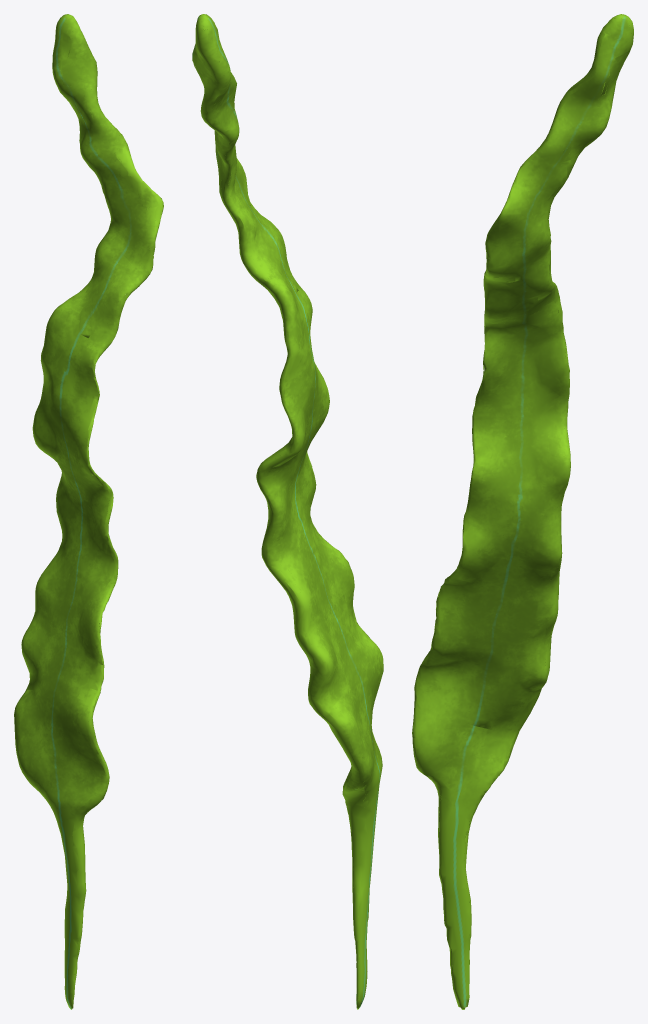
The model's file is alga.glb.
3 renders of one model, left to right at view 1: azimuth 30°, elevation 25°; view 2: azimuth 150°, elevation 25°; view 3: azimuth 270°, elevation 25°, orthographic. The views are drawn at different scales.
Visible parts, largest first — view 1: ZBrush_defualt_group; view 2: ZBrush_defualt_group; view 3: ZBrush_defualt_group.
Part boxes in pixels (x1,y1,x2,y2): ZBrush_defualt_group: (14,14,163,1009); ZBrush_defualt_group: (192,14,383,1009); ZBrush_defualt_group: (412,14,633,1009).
Size of the model in its own units: 1.23 by 7.78 by 1.52.
Materials: 1 (1 with a texture image).
